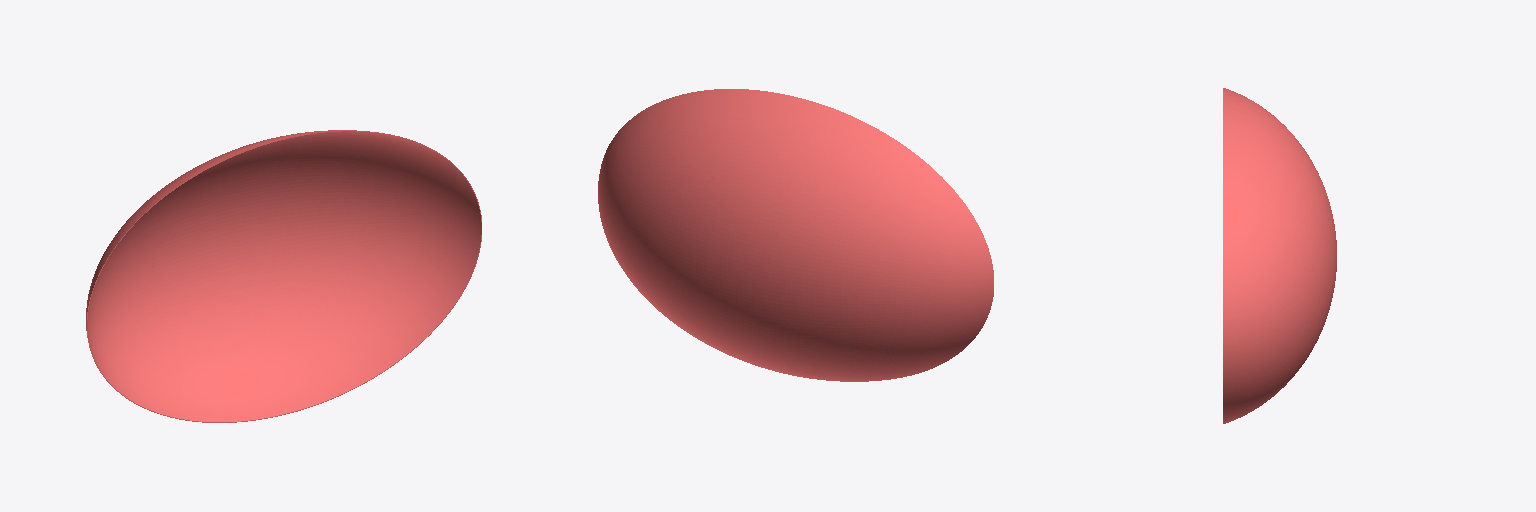
Rendered from ellipsoid_bubble_geometry.obj.
The picture shows the model from 3 angles: view 1: azimuth 30°, elevation 25°; view 2: azimuth 150°, elevation 25°; view 3: azimuth 270°, elevation 25°; orthographic projection.
Visible parts, largest first — view 1: Ellipsoid_Bubble_Geometry; view 2: Ellipsoid_Bubble_Geometry; view 3: Ellipsoid_Bubble_Geometry.
Boxes of the visible parts, x1=… form: Ellipsoid_Bubble_Geometry: x1=86, y1=130, x2=481, y2=422; Ellipsoid_Bubble_Geometry: x1=598, y1=89, x2=993, y2=381; Ellipsoid_Bubble_Geometry: x1=1223, y1=88, x2=1336, y2=423.
Bounding box in the file's own units: 120 × 80 × 29.99.